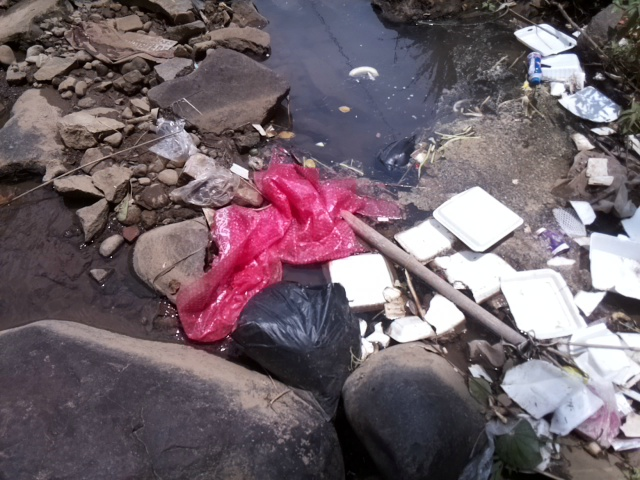Sampah_Botol_Plastik: (524, 50, 544, 88)
Sampah_Plastik: (168, 161, 403, 350), (232, 282, 368, 419), (153, 110, 242, 204), (374, 134, 421, 166)
Sampah_Styrofoam: (430, 252, 589, 341), (493, 356, 603, 433), (431, 182, 530, 257), (320, 250, 402, 315), (573, 319, 640, 386), (581, 230, 640, 301), (512, 17, 583, 57), (541, 56, 595, 84)
